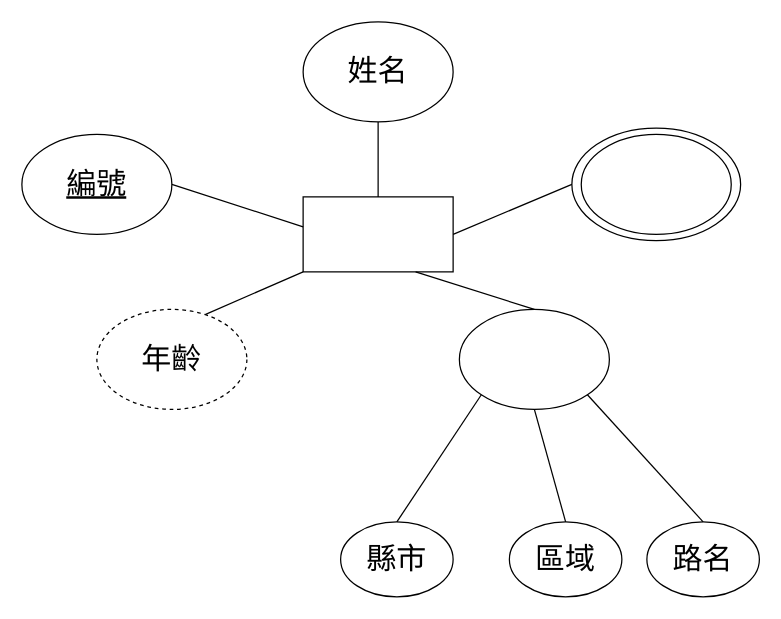
The diagram is 781 pixels wide and 619 high, and some of its shapes have lost their labels. The shapes that lost their labels are listed below. From the top down, each one's box as (x1, y1, x2, y2) in pixels, then its label:
(580, 133, 731, 234): 電話
(302, 196, 453, 272): 員工
(458, 308, 609, 409): 地址
